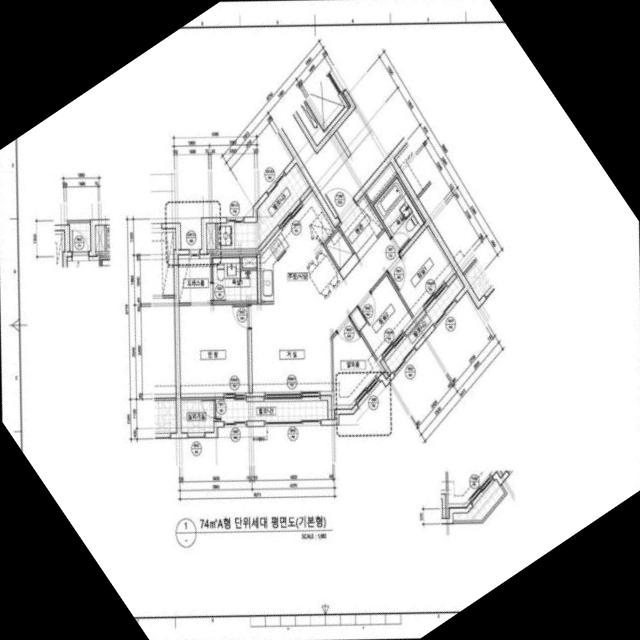background: (0, 0, 640, 640)
space_balconi: (217, 163, 309, 249), (385, 276, 464, 373), (215, 399, 327, 421)
space_bedroom: (179, 304, 248, 397), (388, 226, 455, 319), (358, 275, 413, 362)
space_dressroom: (178, 255, 210, 303)
space_elevator: (296, 73, 350, 146)
space_elevator_hall: (281, 47, 403, 218)
space_front: (338, 194, 383, 260)
space_kitchen: (260, 190, 343, 304)
space_living_room: (250, 230, 399, 396)
space_other: (332, 318, 383, 405), (365, 163, 396, 203), (325, 230, 352, 269), (206, 223, 215, 249), (242, 257, 256, 268)
space_outdoor_room: (180, 400, 213, 432)
space_toilet: (373, 177, 424, 251), (212, 257, 257, 302)
